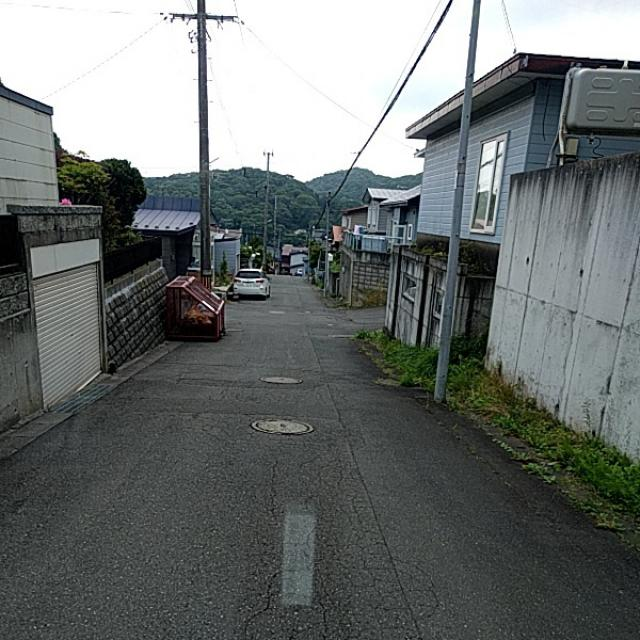pothole: (239, 412, 431, 621)
